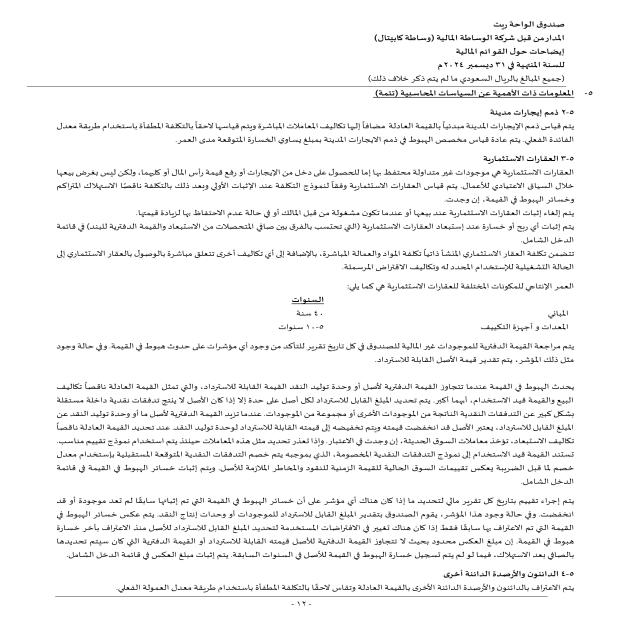notes: (453, 48, 572, 57)
text: (29, 85, 597, 614)
